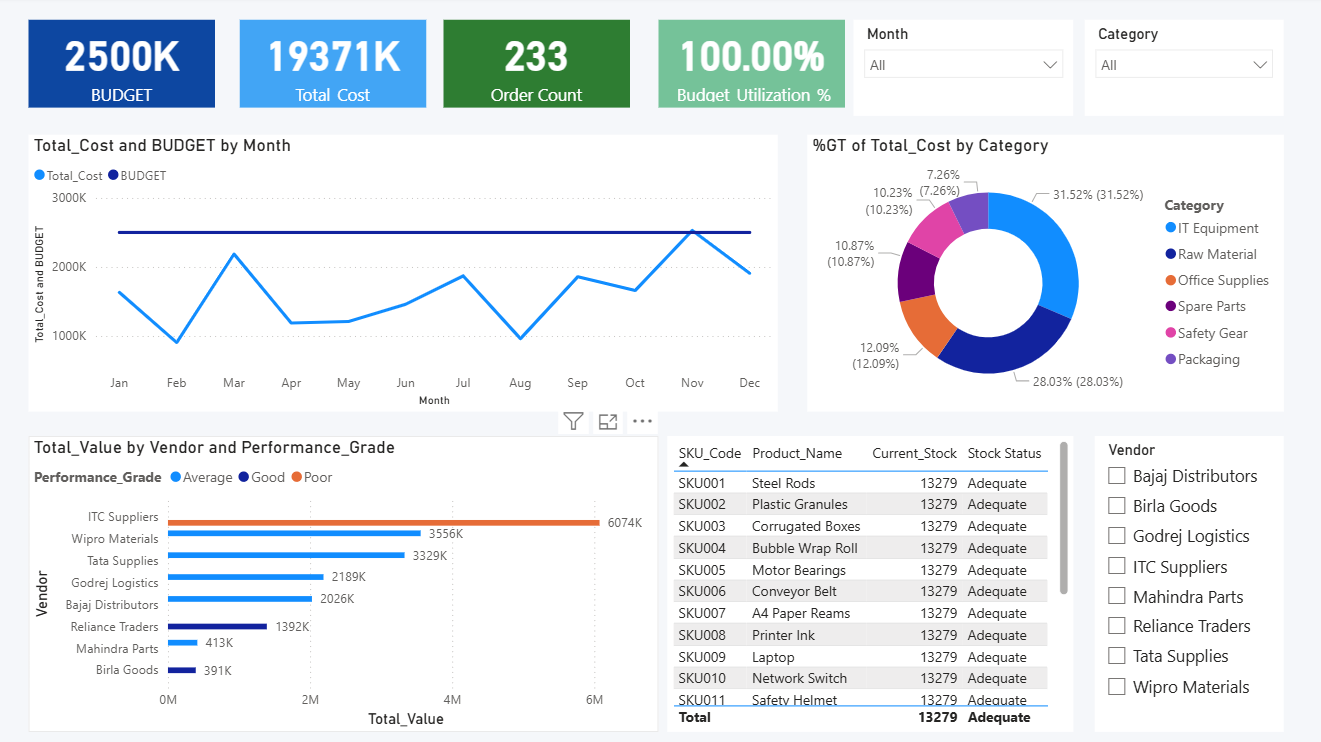

The dashboard page shown, as its layout file describes it:
{"tool":"powerbi","page":{"name":"Page 1","canvas":[1280,720],"ordinal":0},"visuals":[{"type":"lineChart","fields":{"Category":["Purchase_Orders.Month"],"Y":["Sum(Purchase_Orders.Total_Cost)","Low_Stock_Alert.BUDGET"]},"box":[31.2,133.8,723.4,267.5],"z":0},{"type":"clusteredBarChart","fields":{"Category":["Vendor_Performance.Vendor"],"Y":["Sum(Vendor_Performance.Total_Value)"],"Series":["Vendor_Performance.Performance_Grade"]},"box":[31.4,424.7,608,285.9],"z":1000},{"type":"donutChart","fields":{"Category":["Purchase_Orders.Category"],"Y":["Sum(Purchase_Orders.Total_Cost)"]},"box":[783.1,133.8,459.7,267.5],"z":2000},{"type":"tableEx","fields":{"Values":["Purchase_Orders.SKU_Code","Purchase_Orders.Product_Name","Sum(Stock_Ledger.Current_Stock)","Low_Stock_Alert.Stock Status"]},"box":[647.9,424.7,392.1,285.9],"z":3000},{"type":"slicer","fields":{"Values":["Vendor_Performance.Vendor"]},"box":[1060.5,424.7,182.2,285.9],"z":4000},{"type":"card","fields":{"Values":["Low_Stock_Alert.BUDGET"]},"box":[31.4,22.9,180,85],"z":5000},{"type":"card","fields":{"Values":["Sum(Purchase_Orders.Total_Cost)"]},"box":[235.3,22.9,179.8,84.5],"z":6000},{"type":"card","fields":{"Values":["Count(Purchase_Orders.PO_Number)"]},"box":[431.9,22.9,179.8,84.5],"z":7000},{"type":"card","fields":{"Values":["CountNonNull(Monthly_Purchase_Summary.Budget_Utilization_%)"]},"box":[639.4,22.9,179.8,84.5],"z":8000},{"type":"slicer","fields":{"Values":["Monthly_Purchase_Summary.Month"]},"box":[827.6,22.9,212.3,92.9],"z":9000},{"type":"slicer","fields":{"Values":["Purchase_Orders.Category"]},"box":[1050.8,22.9,191.8,92.9],"z":10000}]}

Visuals, with their boxes in screenshot pixels (x1, y1, x2, y2), scaled from the page's 1280x720 canvas onto the 1321x742 screenshot:
lineChart - Purchase_Orders.Month x Sum(Purchase_Orders.Total_Cost): bbox=(32, 138, 779, 414)
clusteredBarChart - Vendor_Performance.Vendor x Sum(Vendor_Performance.Total_Value): bbox=(32, 438, 660, 732)
donutChart - Purchase_Orders.Category x Sum(Purchase_Orders.Total_Cost): bbox=(808, 138, 1283, 414)
tableEx - Purchase_Orders.SKU_Code x Purchase_Orders.Product_Name: bbox=(669, 438, 1073, 732)
slicer - Vendor_Performance.Vendor: bbox=(1094, 438, 1283, 732)
card - Low_Stock_Alert.BUDGET: bbox=(32, 24, 218, 111)
card - Sum(Purchase_Orders.Total_Cost): bbox=(243, 24, 428, 111)
card - Count(Purchase_Orders.PO_Number): bbox=(446, 24, 631, 111)
card - CountNonNull(Monthly_Purchase_Summary.Budget_Utilization_%): bbox=(660, 24, 845, 111)
slicer - Monthly_Purchase_Summary.Month: bbox=(854, 24, 1073, 119)
slicer - Purchase_Orders.Category: bbox=(1084, 24, 1282, 119)
